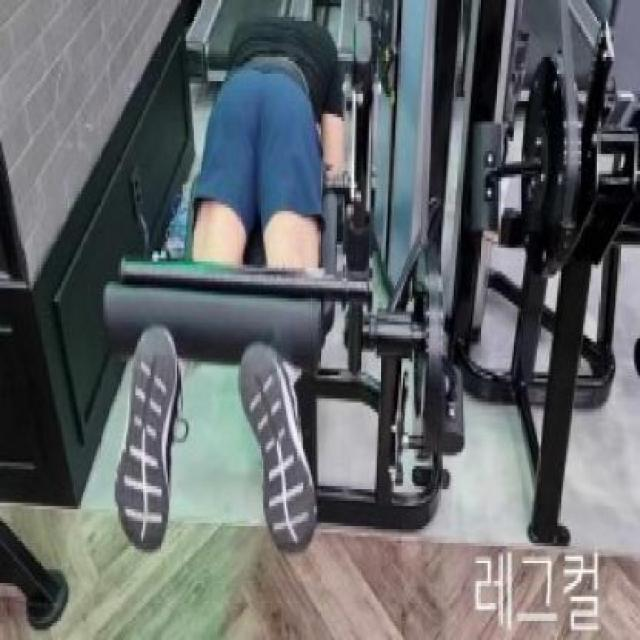reg curl machine: (100, 0, 478, 583)
